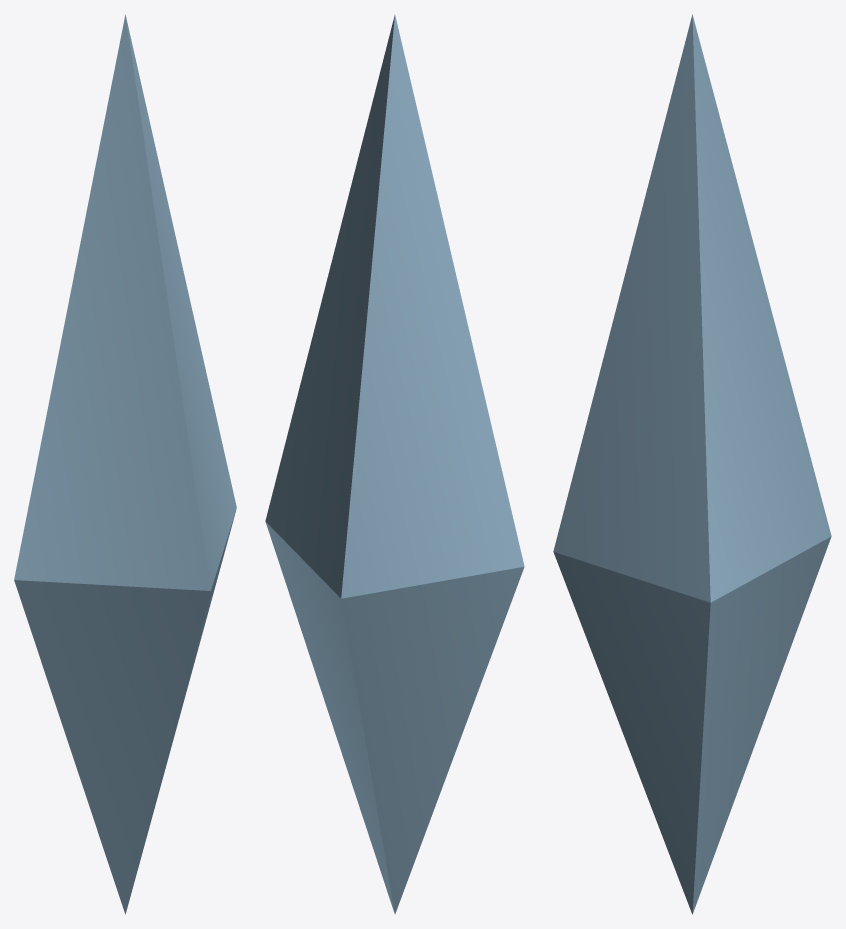
Rendered from Qiqi_HeraldOfFrostState_PeriodicAttack_HeraldFrostMote.fbx.
The picture shows the model from 3 angles, left to right: view 1: azimuth 30°, elevation 25°; view 2: azimuth 150°, elevation 25°; view 3: azimuth 270°, elevation 25°; orthographic projection.
Parts seen in each view (by area): view 1: PART_SmallHeraldFrostCrystal; view 2: PART_SmallHeraldFrostCrystal; view 3: PART_SmallHeraldFrostCrystal.
Boxes of the visible parts, bbox=[...] form: PART_SmallHeraldFrostCrystal: bbox=[14, 14, 236, 914]; PART_SmallHeraldFrostCrystal: bbox=[265, 15, 524, 914]; PART_SmallHeraldFrostCrystal: bbox=[553, 14, 831, 914].
Bounding box in the file's own units: 4.76 × 17 × 4.76.
